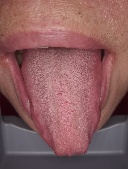tongue: (19, 52, 104, 158)
